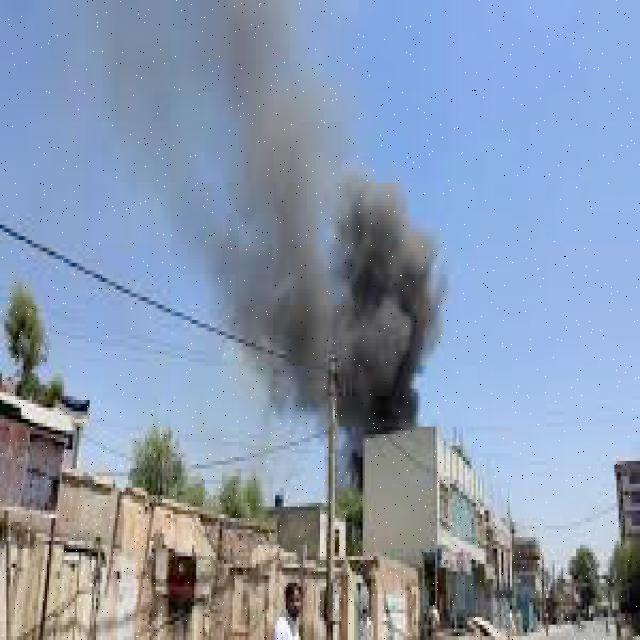smoke: (159, 2, 447, 425)
